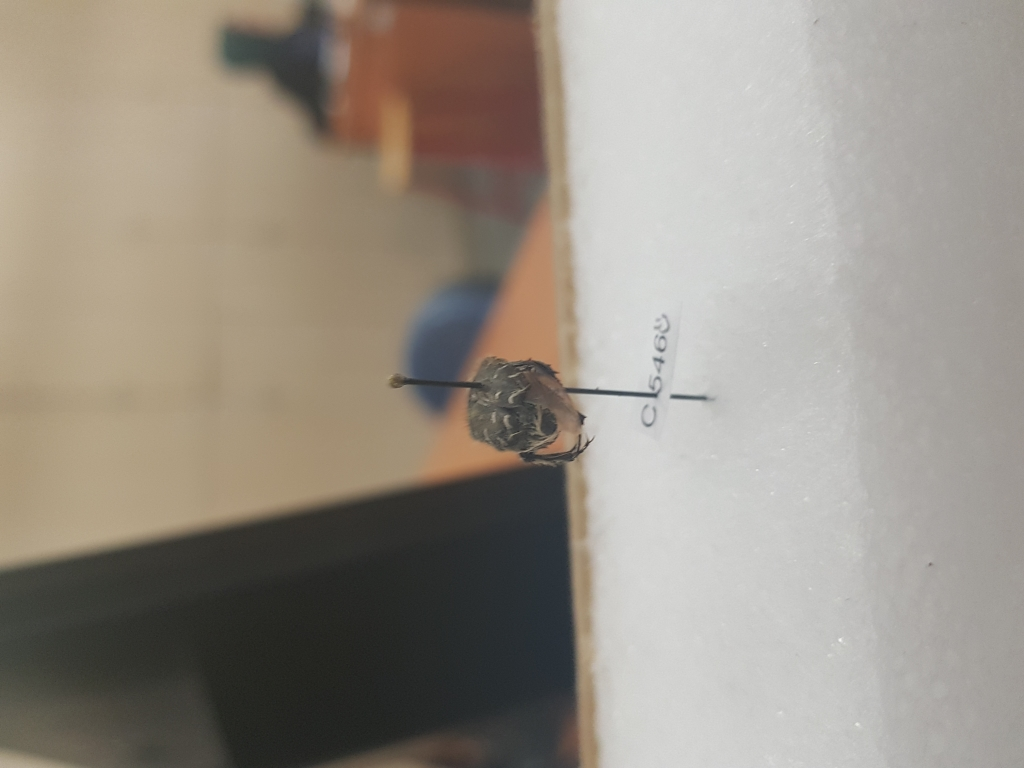Tropinota_senicula: (466, 338, 612, 471)
